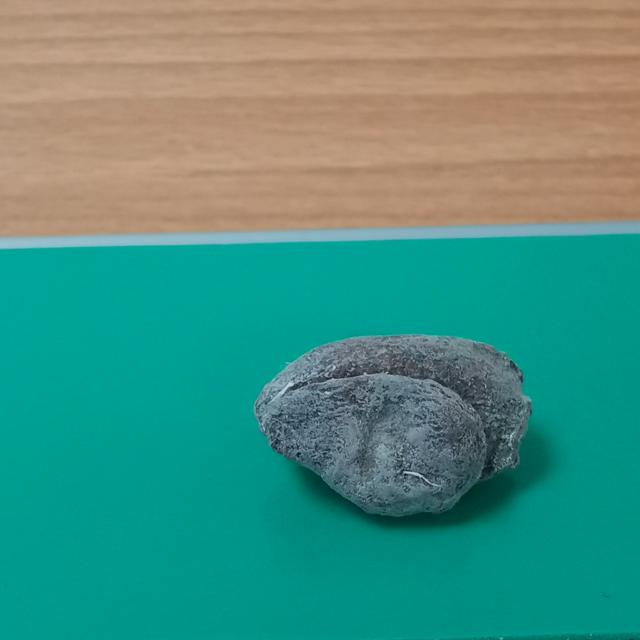Agglomerated_cocoabeans: (185, 304, 610, 550)
